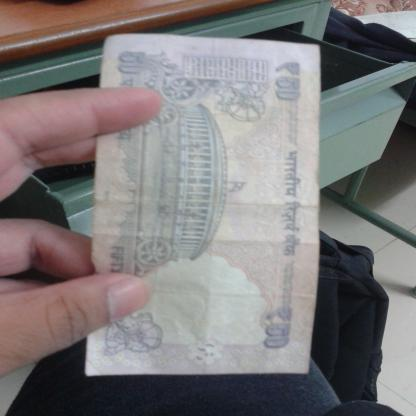Old50Back: (88, 32, 325, 377)
